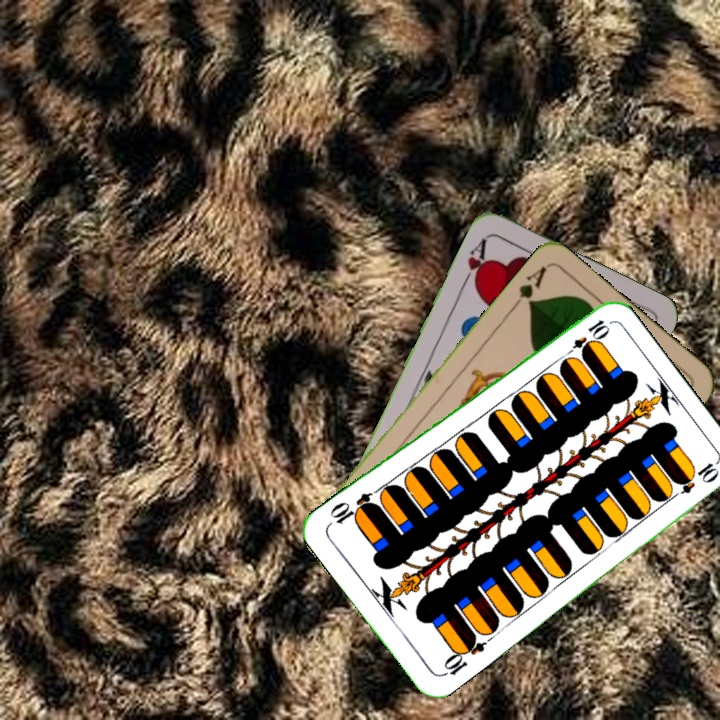E10: (437, 631, 488, 679), (560, 315, 612, 361)
GA: (508, 262, 550, 312)
HA: (458, 234, 491, 290)
